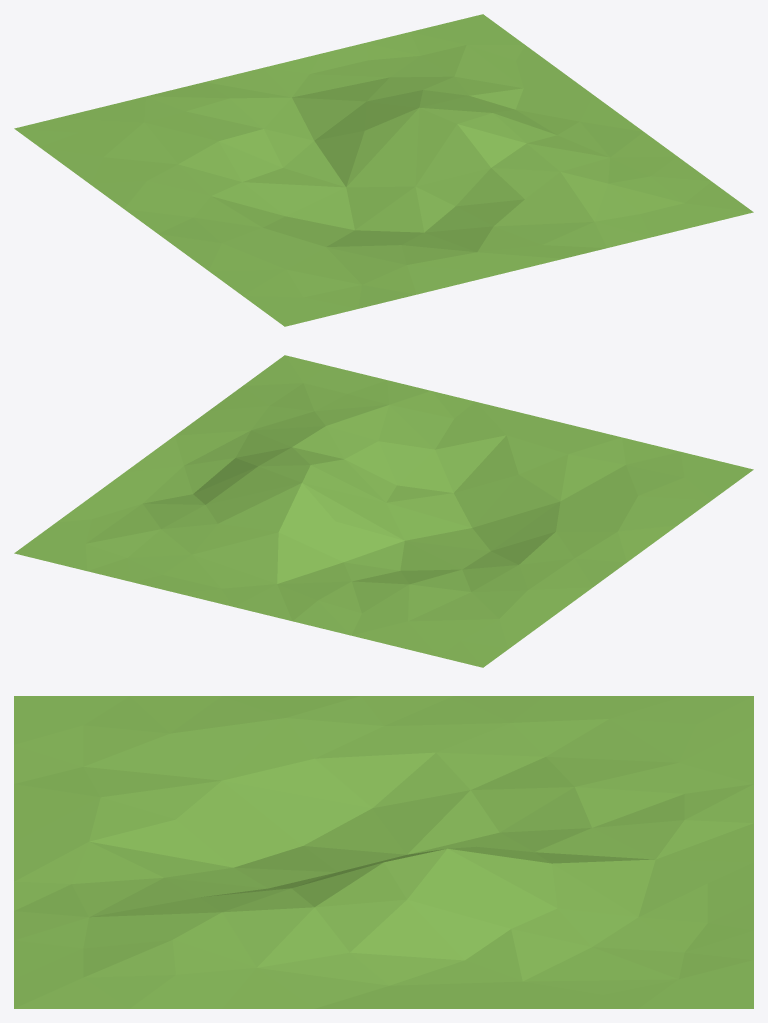
The model's file is MT_Terrain_S_b_13.fbx.
3 renders of one model, top to bottom at view 1: azimuth 30°, elevation 25°; view 2: azimuth 150°, elevation 25°; view 3: azimuth 270°, elevation 25°, orthographic. The views are drawn at different scales.
Visible parts, largest first — view 1: MT_Terrain_S_b_13; view 2: MT_Terrain_S_b_13; view 3: MT_Terrain_S_b_13.
Boxes of the visible parts, x1=… form: MT_Terrain_S_b_13: x1=14, y1=14, x2=753, y2=326; MT_Terrain_S_b_13: x1=14, y1=355, x2=753, y2=667; MT_Terrain_S_b_13: x1=14, y1=696, x2=753, y2=1008.
Size of the model in its own units: 2500 by 281 by 2500.
